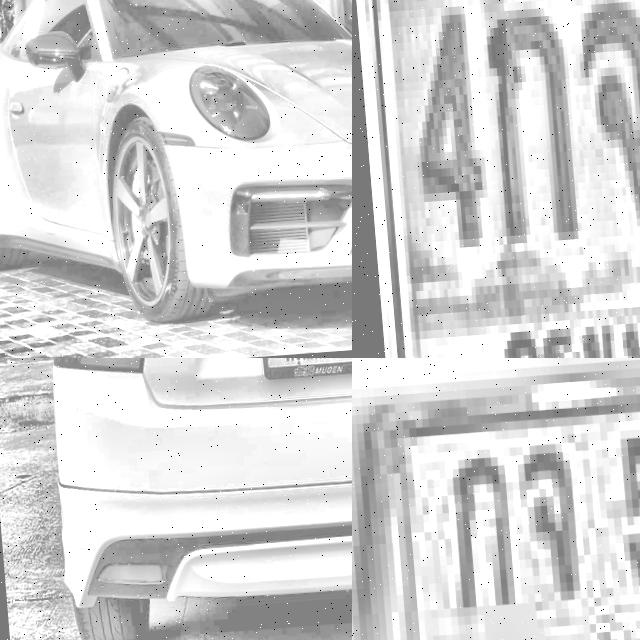license-plate: (357, 0, 640, 358), (352, 358, 640, 640), (252, 358, 352, 387)
